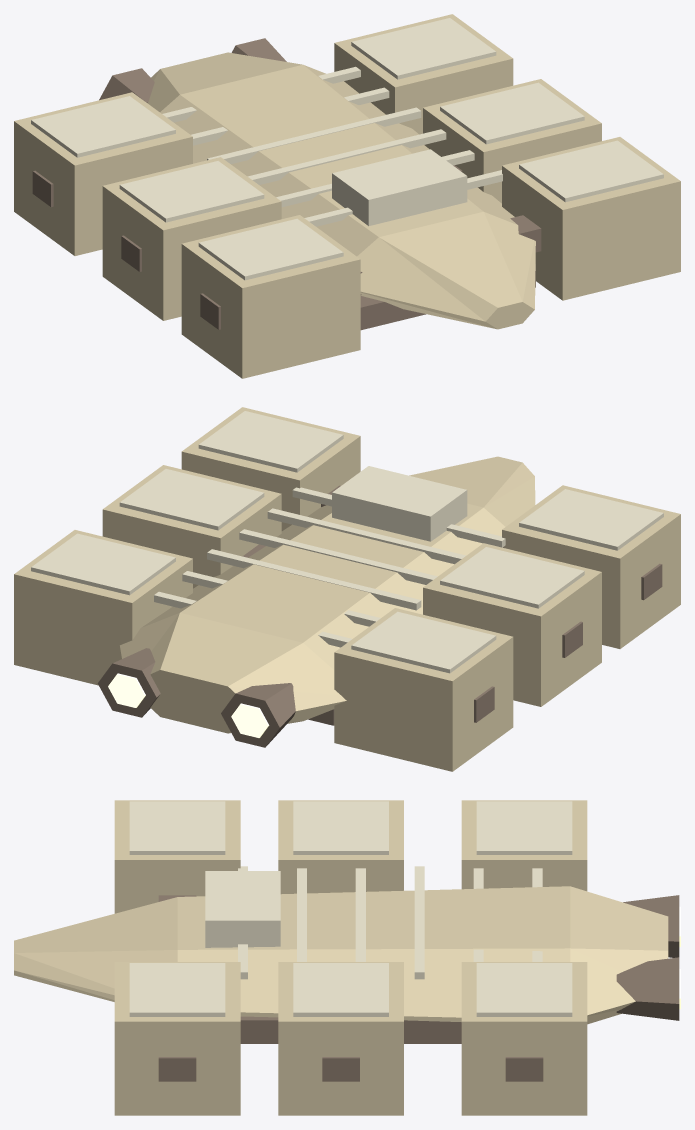
3 renders of one model, top to bottom at view 1: azimuth 30°, elevation 25°; view 2: azimuth 150°, elevation 25°; view 3: azimuth 270°, elevation 25°, orthographic. The views are drawn at different scales.
Bounding box in the file's own units: 8.93 × 2.03 × 11.24.
